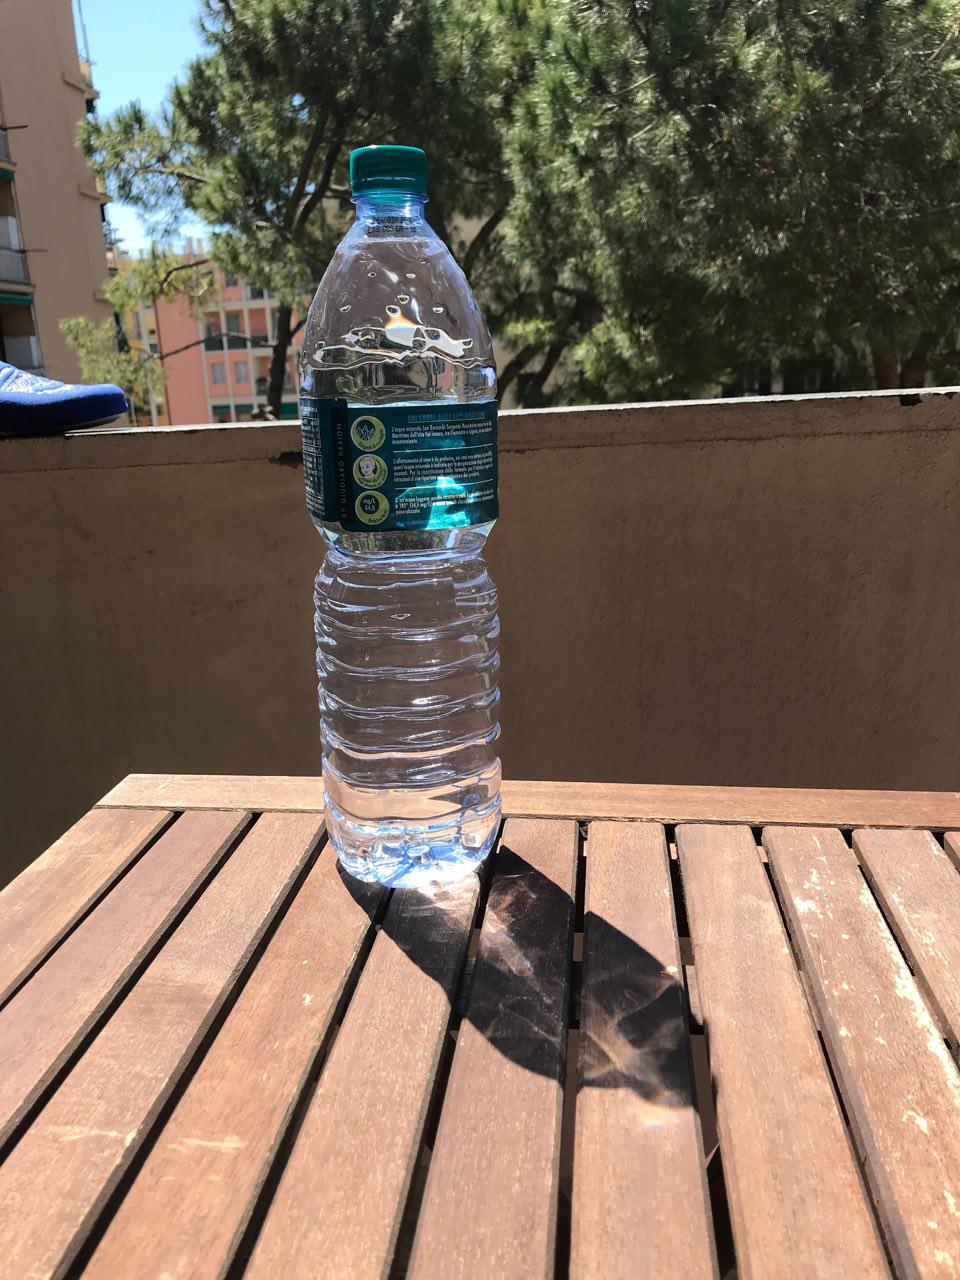san_bernardo: (296, 145, 502, 890)
